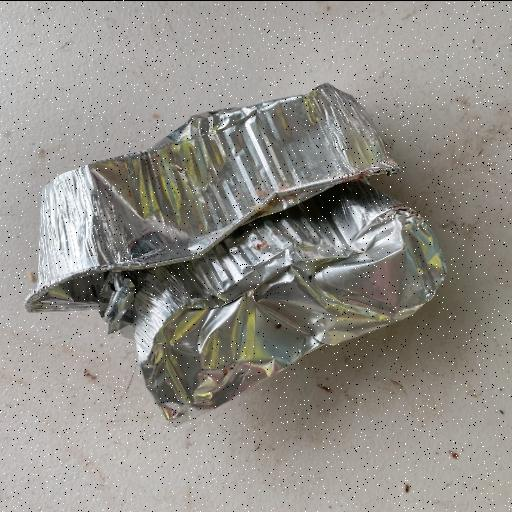Metal: (22, 80, 448, 426)
